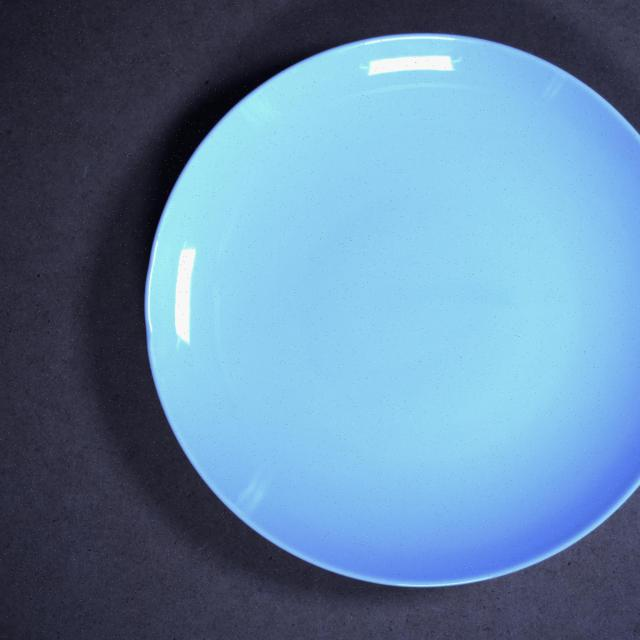plate: (145, 35, 640, 586)
